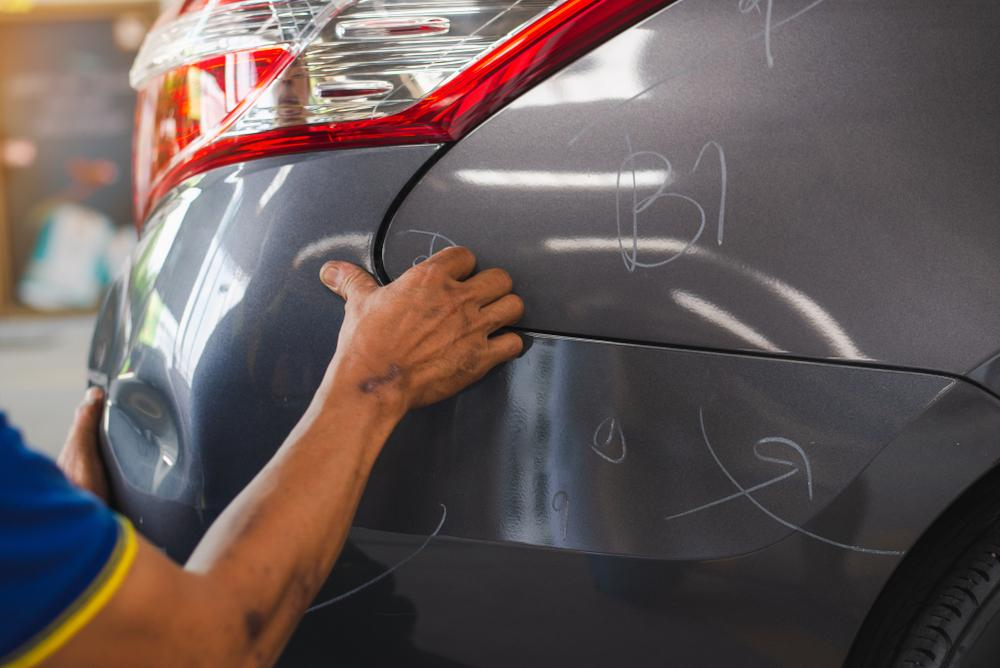dent: (104, 372, 192, 501)
